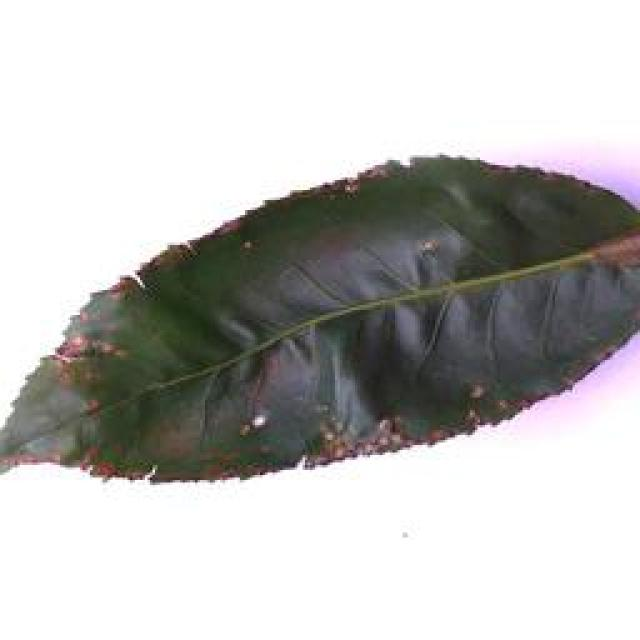Helopeltis: (2, 135, 640, 497)
